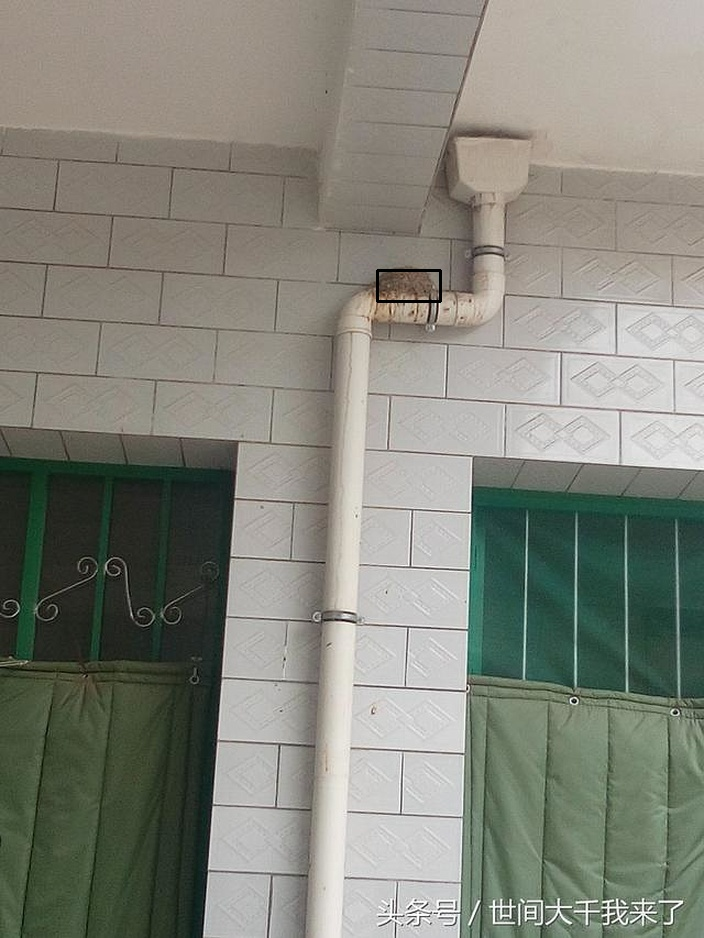bird-nest: (375, 264, 440, 299)
